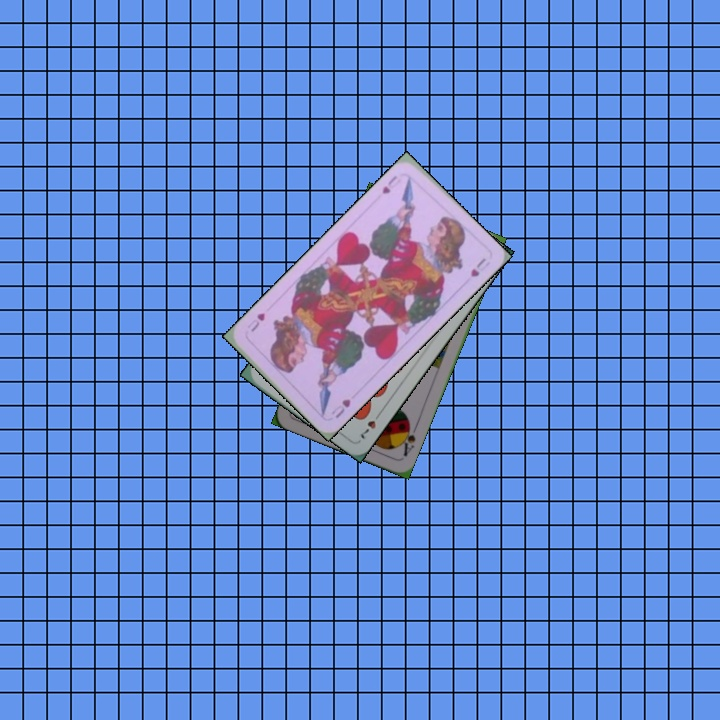H7: (356, 407, 384, 442)
HU: (327, 395, 353, 421), (378, 171, 404, 196)
SA: (396, 419, 420, 459)
